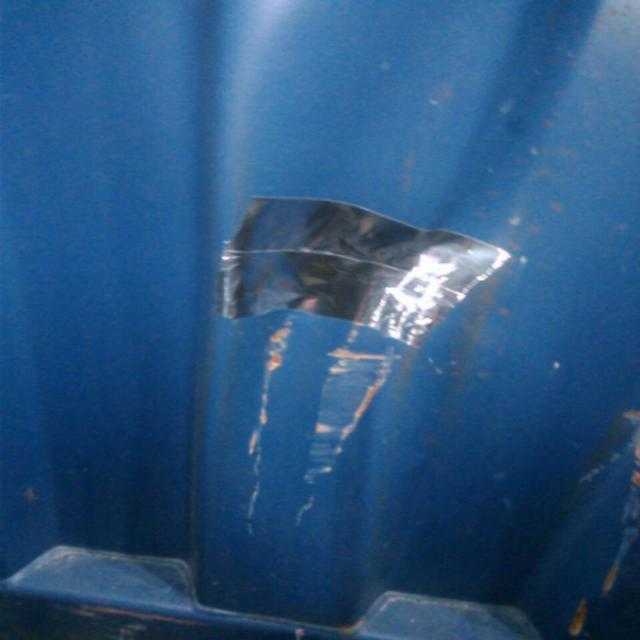dent: (211, 180, 535, 406)
